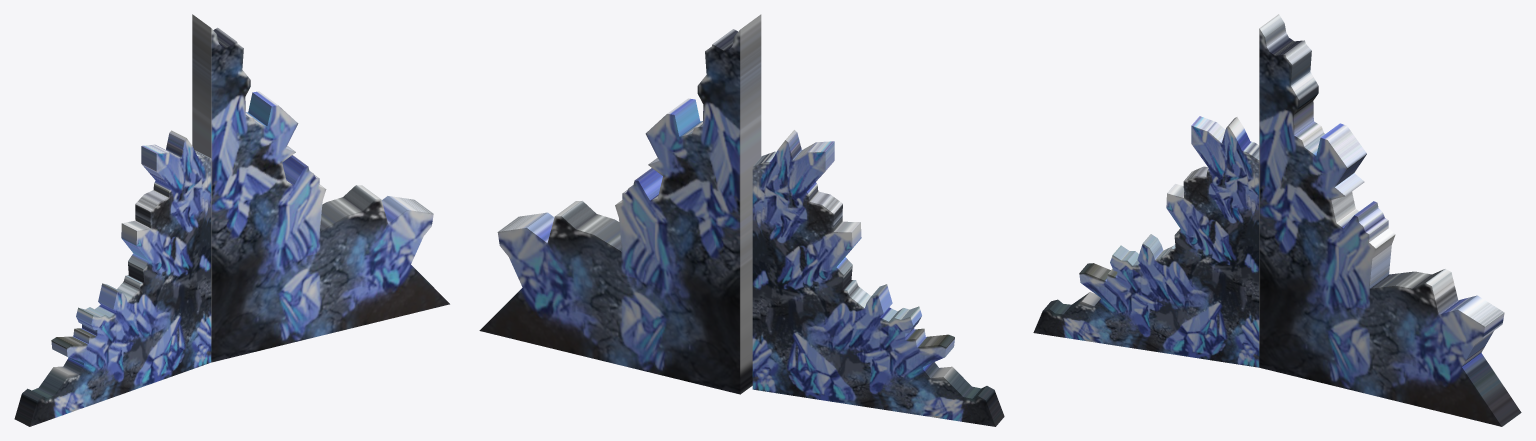
The model's file is SM_LevelCrystal_003.FBX.
3 renders of one model, left to right at view 1: azimuth 30°, elevation 25°; view 2: azimuth 150°, elevation 25°; view 3: azimuth 330°, elevation 25°, orthographic. The views are drawn at different scales.
Parts seen in each view (by area): view 1: SM_LevelCrystal_003; view 2: SM_LevelCrystal_003; view 3: SM_LevelCrystal_003.
Part boxes in pixels (x1,y1,x2,y2): SM_LevelCrystal_003: (14, 14, 449, 426); SM_LevelCrystal_003: (479, 14, 1004, 426); SM_LevelCrystal_003: (1033, 14, 1521, 426).
Bounding box in the file's own units: 2783 × 2000 × 431.
Materials: 1 (1 with a texture image).
